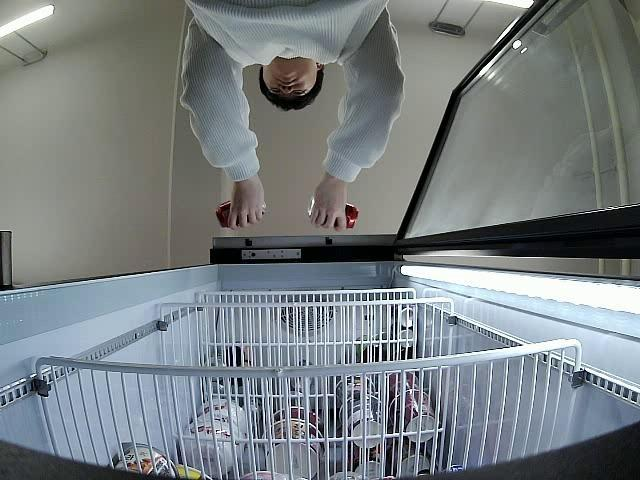11_cocaColaZero: (308, 202, 358, 228), (217, 198, 263, 225)
